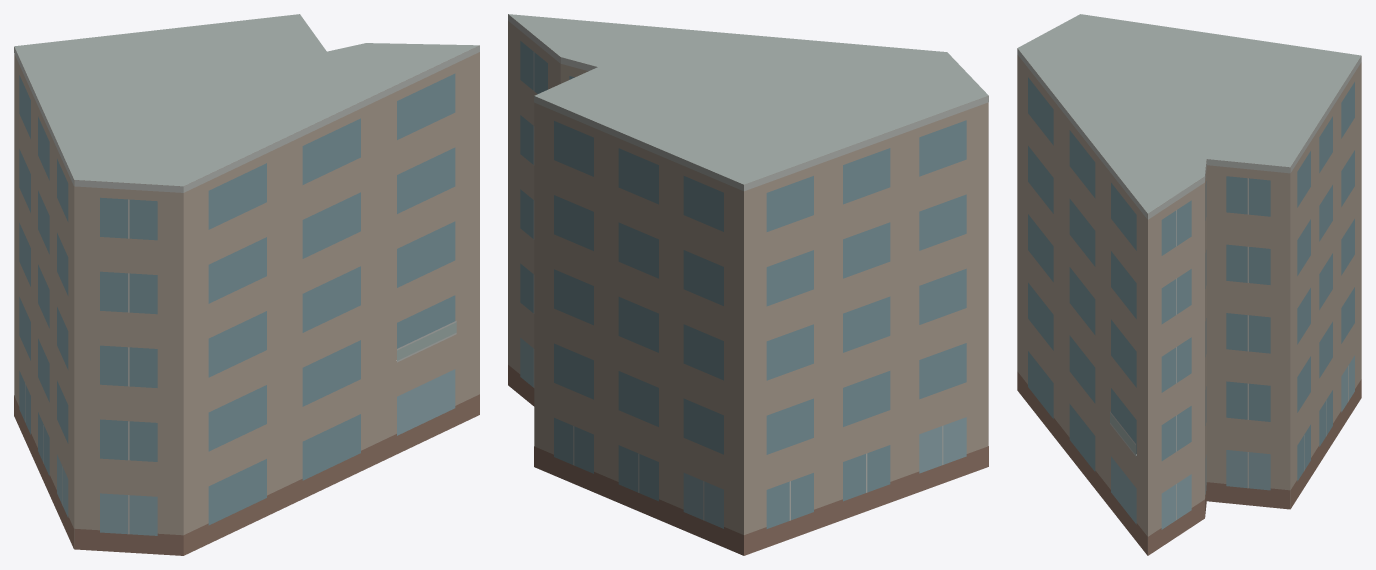
Rendered from survey-upis-32776699.glb.
The picture shows the model from 3 angles, left to right: view 1: azimuth 30°, elevation 25°; view 2: azimuth 150°, elevation 25°; view 3: azimuth 270°, elevation 25°; orthographic projection. The views are drawn at different scales.
Parts seen in each view (by area): view 1: survey-upis-32776699.tmp; view 2: survey-upis-32776699.tmp; view 3: survey-upis-32776699.tmp.
Part boxes in pixels (x1,y1,x2,y2): survey-upis-32776699.tmp: (14, 14, 479, 555); survey-upis-32776699.tmp: (508, 14, 988, 555); survey-upis-32776699.tmp: (1017, 14, 1361, 555).
Size of the model in its own units: 17.04 by 13.6 by 12.41.
